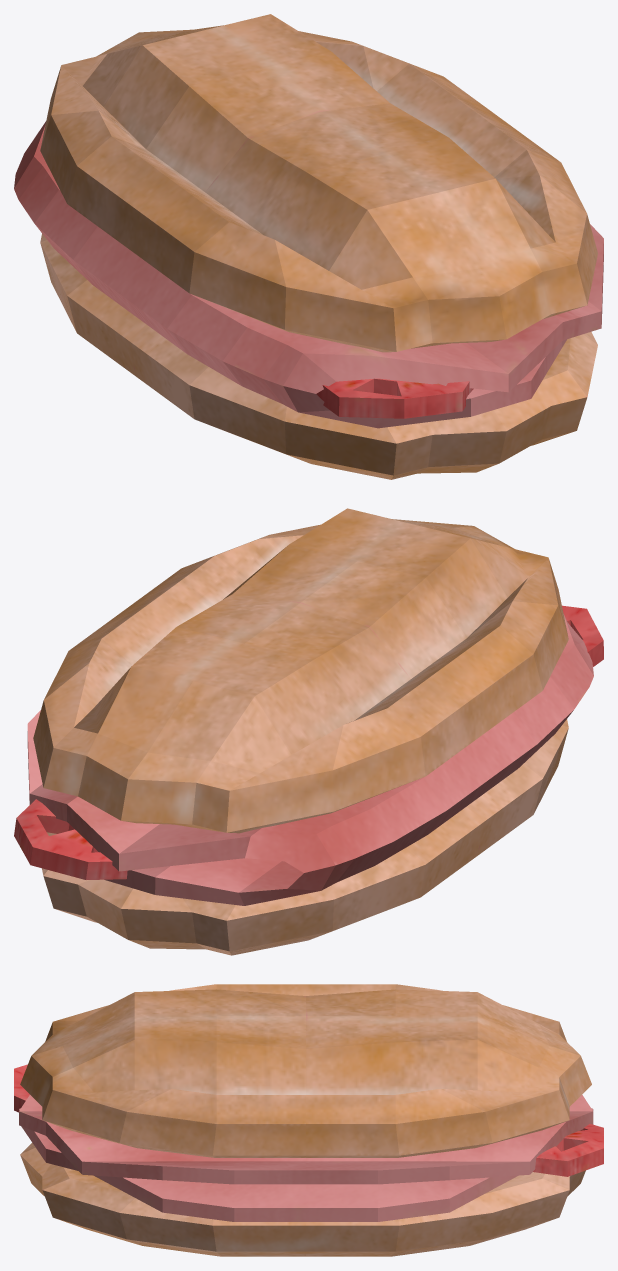
File: Torta Low 1.fbx
The picture shows the model from 3 angles, top to bottom: view 1: azimuth 30°, elevation 25°; view 2: azimuth 150°, elevation 25°; view 3: azimuth 270°, elevation 25°; orthographic projection. The views are drawn at different scales.
Visible parts, largest first — view 1: Torta V2; view 2: Torta V2; view 3: Torta V2.
Boxes of the visible parts, x1,y1,x2,y2 form: Torta V2: [14, 14, 603, 479]; Torta V2: [14, 508, 603, 955]; Torta V2: [14, 984, 603, 1256].
Bounding box in the file's own units: 176 × 103 × 293.
